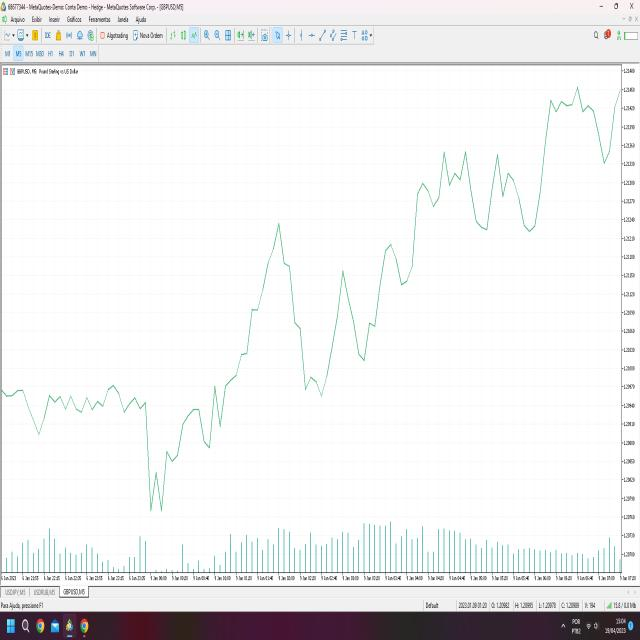fundo_duplo: (462, 90, 552, 262), (146, 454, 172, 525)
